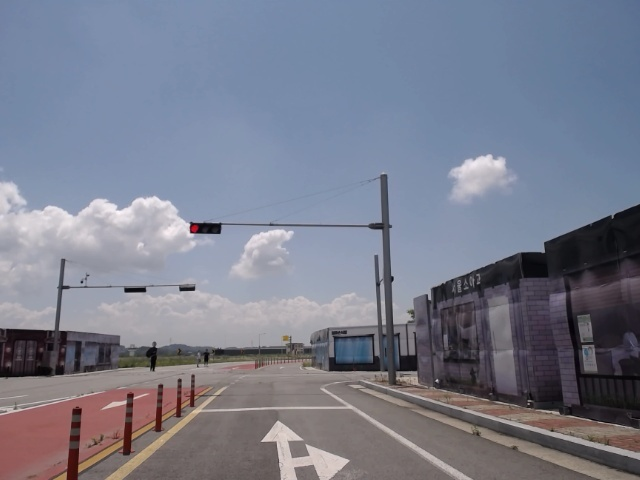red_3: (188, 222, 224, 234)
